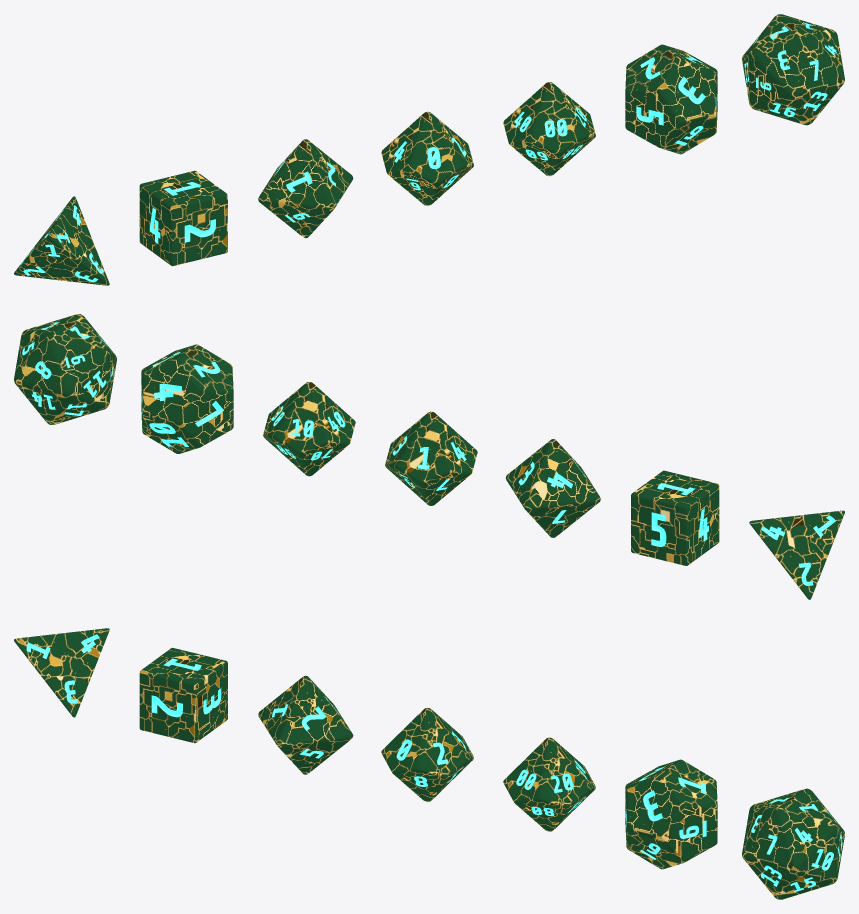
The model's file is circuit-board.glb.
The picture shows the model from 3 angles, top to bottom: view 1: azimuth 30°, elevation 25°; view 2: azimuth 150°, elevation 25°; view 3: azimuth 330°, elevation 25°; orthographic projection.
Parts seen in each view (by area): view 1: d20, d12, d6, d100, d10, d8, d4; view 2: d20, d12, d6, d100, d10, d8, d4; view 3: d20, d12, d6, d8, d100, d10, d4.
Part boxes in pixels (box(x1,y1,x2,y2)): d20: box(742, 14, 844, 125); d12: box(625, 44, 717, 154); d6: box(139, 170, 227, 266); d100: box(503, 82, 595, 176); d10: box(381, 111, 473, 206); d8: box(258, 139, 353, 238); d4: box(14, 196, 109, 285); d20: box(14, 314, 116, 424); d12: box(141, 344, 233, 453); d6: box(631, 470, 719, 565); d100: box(263, 382, 355, 476); d10: box(385, 411, 477, 505); d8: box(505, 439, 600, 537); d4: box(749, 510, 844, 599); d20: box(742, 788, 844, 899); d12: box(625, 759, 717, 869); d6: box(139, 647, 227, 743); d8: box(258, 675, 353, 774); d100: box(503, 737, 595, 831); d10: box(381, 707, 473, 802); d4: box(14, 628, 109, 717).
Size of the model in its own units: 21.14 by 2.47 by 2.47.
14 materials, 7 textured.
